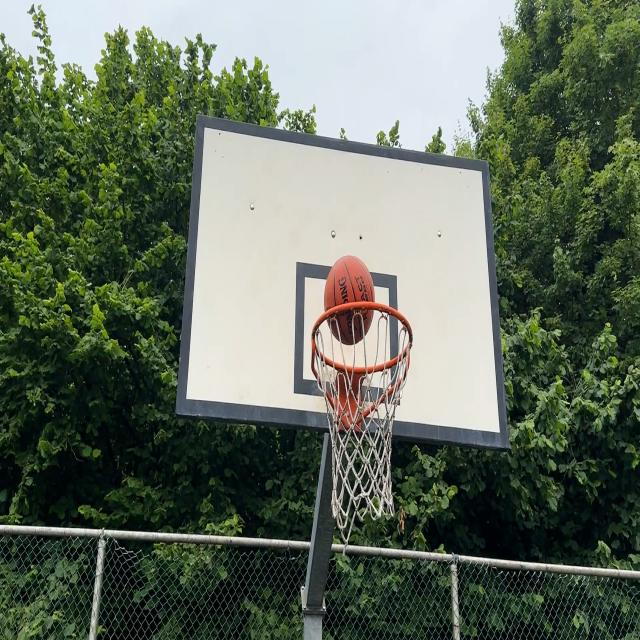rebound_hit: (324, 252, 374, 344)
